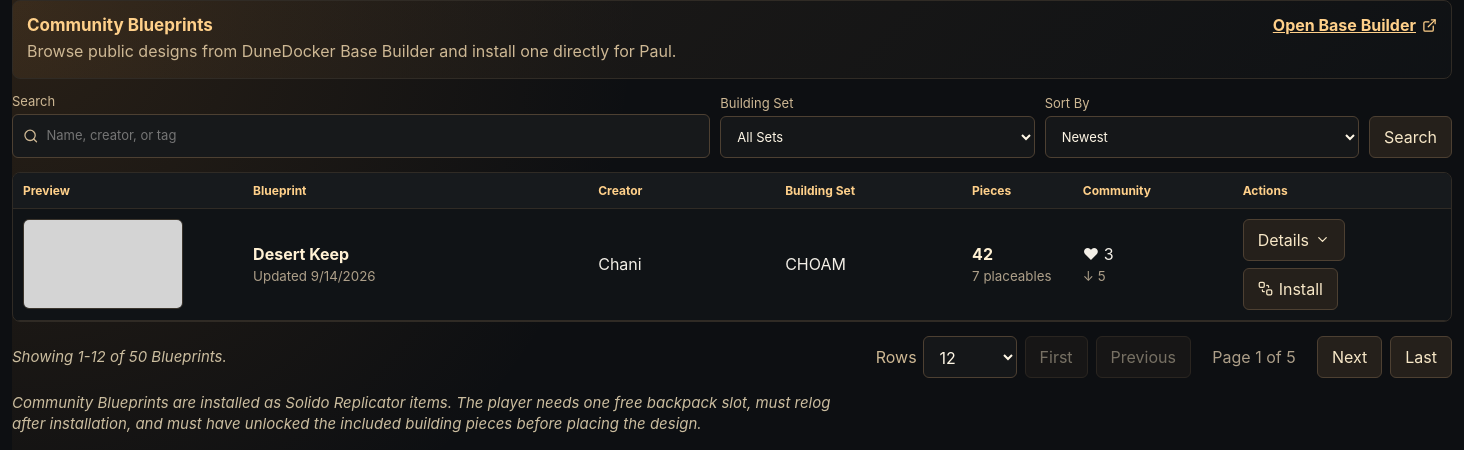
CommunityBlueprintBrowser › uses the standard first, previous, next, and last pagination controls
Expected: the text "Page 1 of 5" is shown, [1212,347,1296,367]
Expected: the button "First" is disabled, [1025,336,1088,378]
Step 1. Click the button "Next" → (1350, 357), box [1317,336,1382,378]
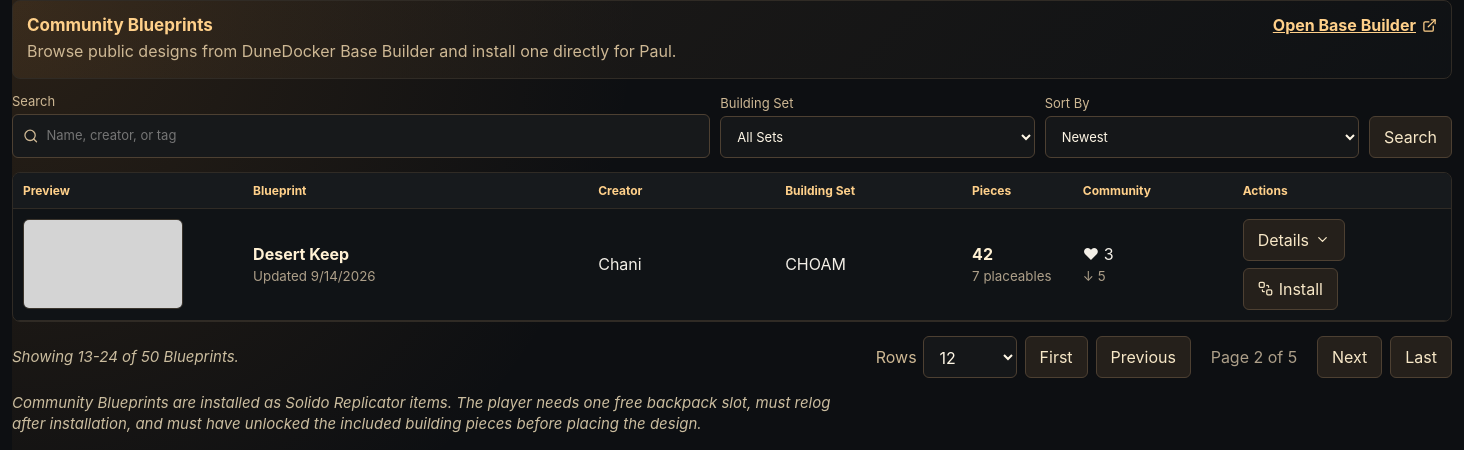
Now the text "Page 2 of 5" is shown, box [1211,347,1297,367]
Step 2. Select "24" in the dropdown labelled "Rows" → (970, 357), box [923,336,1017,378]
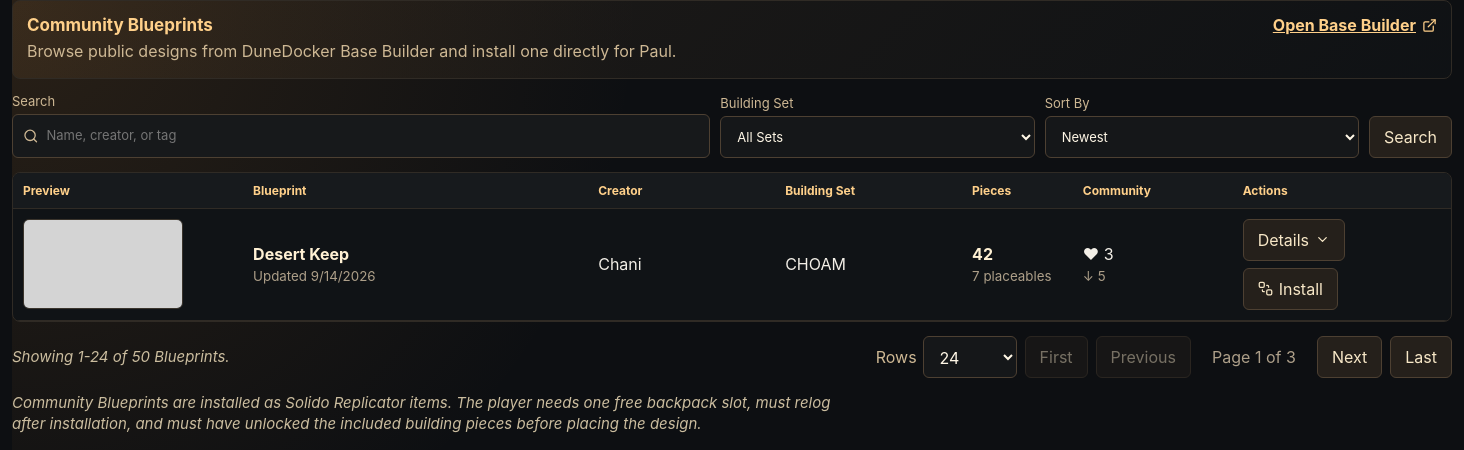
Now the text "Page 1 of 3" is shown, box [1212,347,1296,367]
